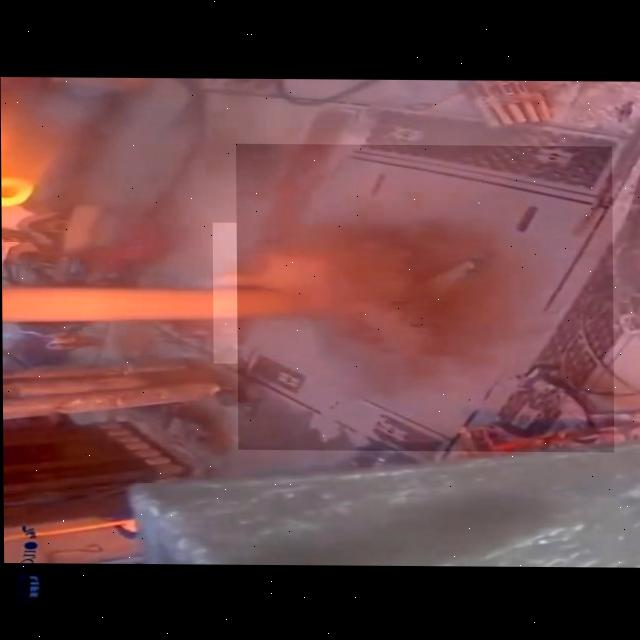spillage: (236, 143, 613, 451), (213, 222, 495, 364)
